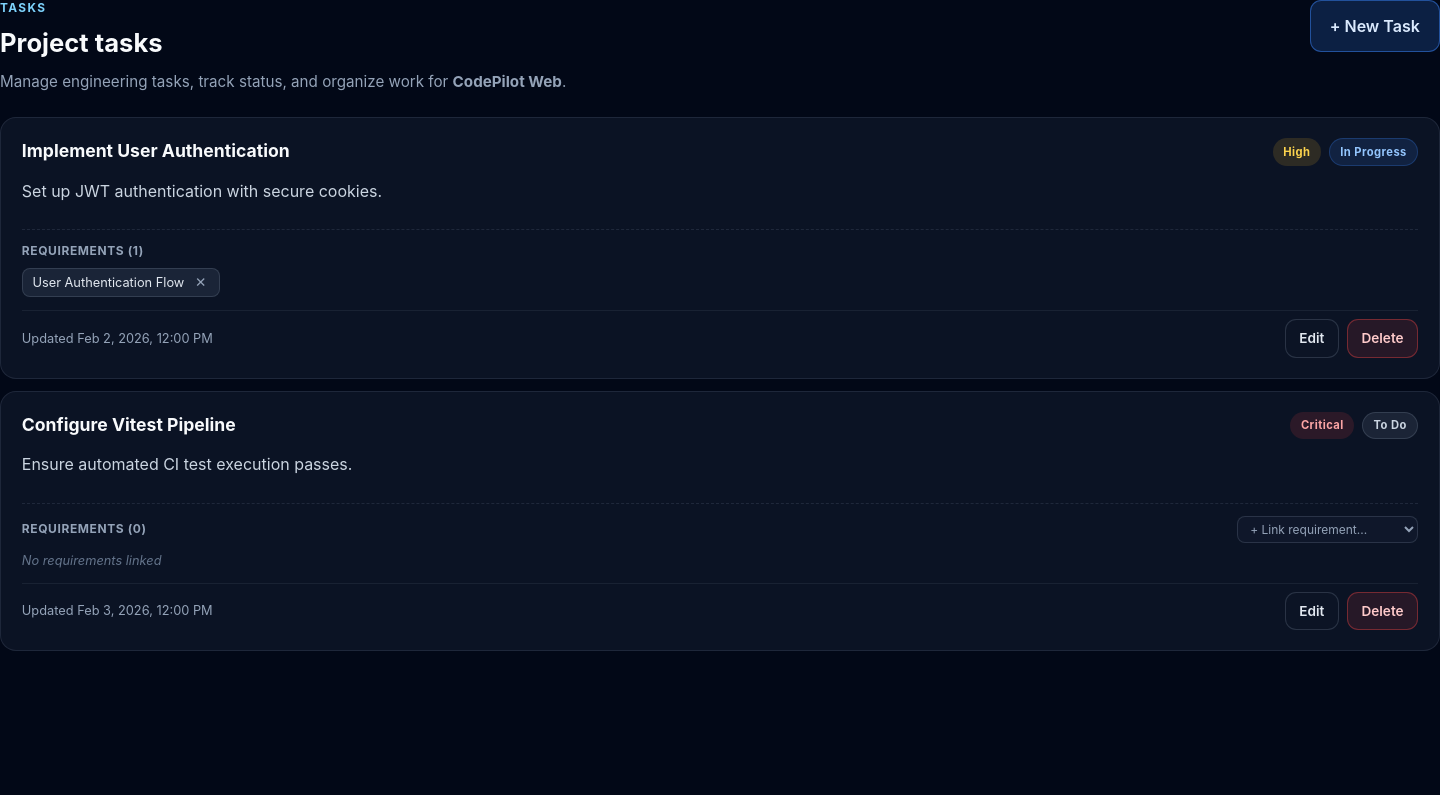
Scenario: TasksPage › displays error when deletion fails
This screenshot has width=1440, height=795.
expect the heading "Implement User Authentication" is shown: met, box [22,140,290,161]
Click the button named "Delete Implement User Authentication".
click(1383, 338)  # box [1347,319,1418,358]
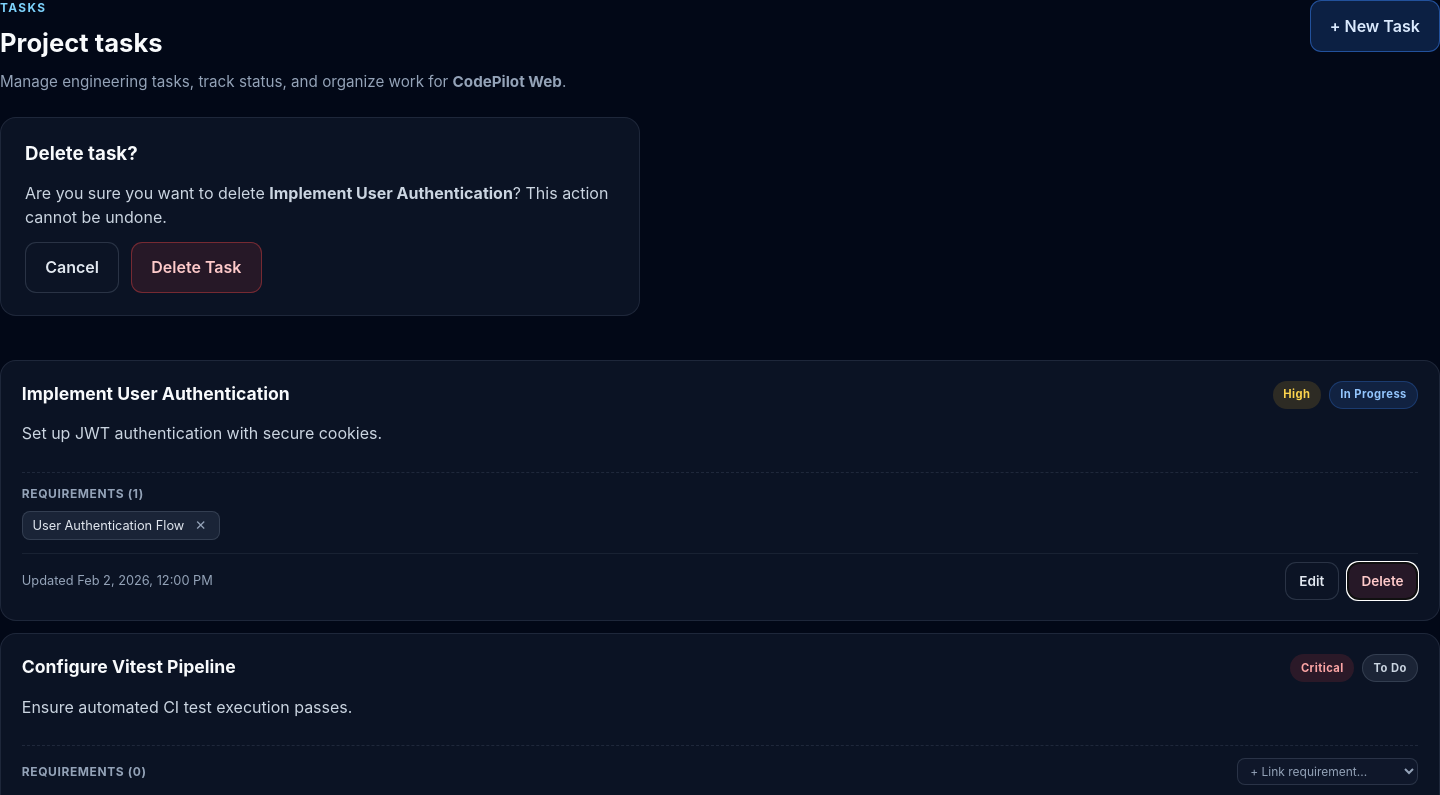
Click the button "Delete Task".
click(196, 267)  # box [131,242,262,293]
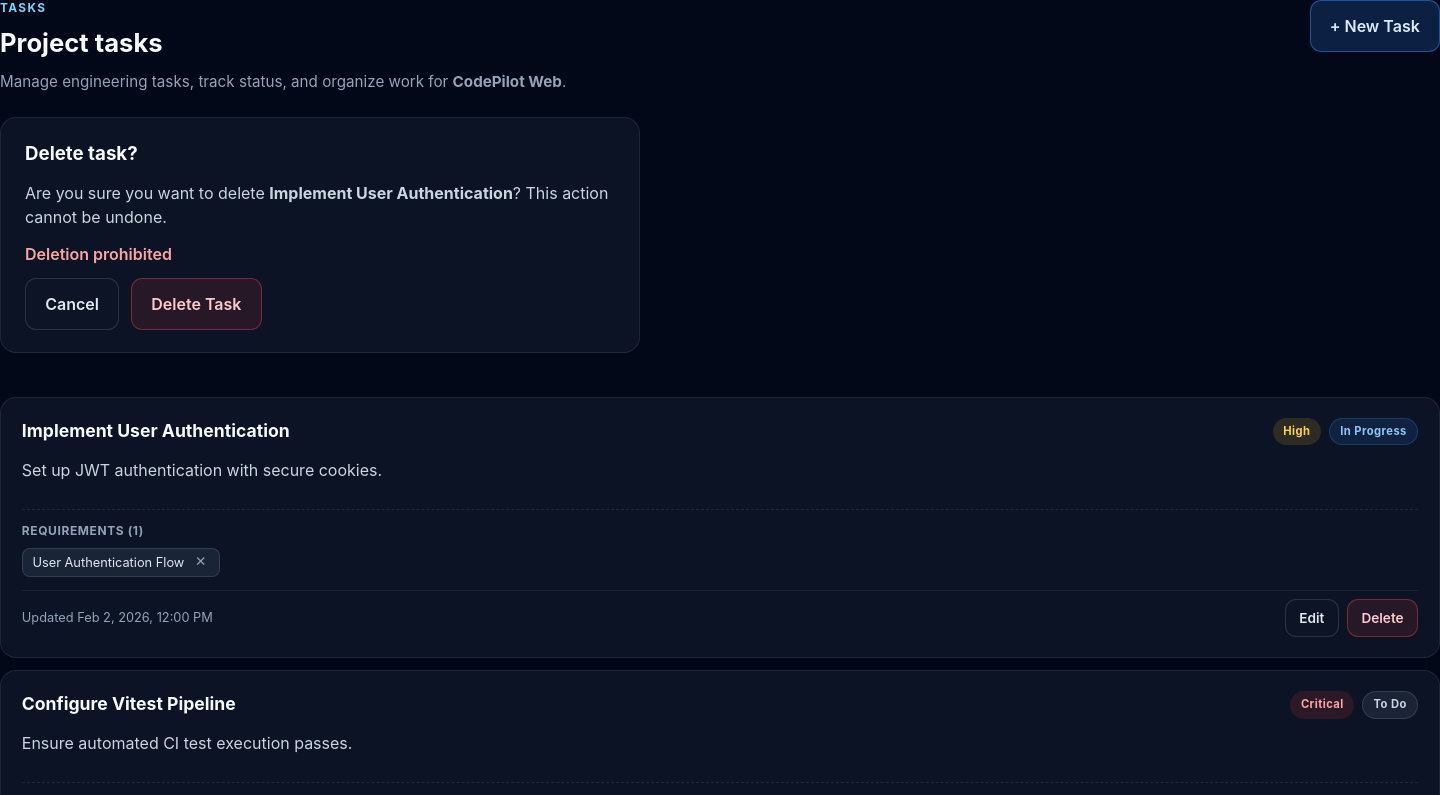
expect the text "Deletion prohibited" is shown: met, box [25,244,172,264]
